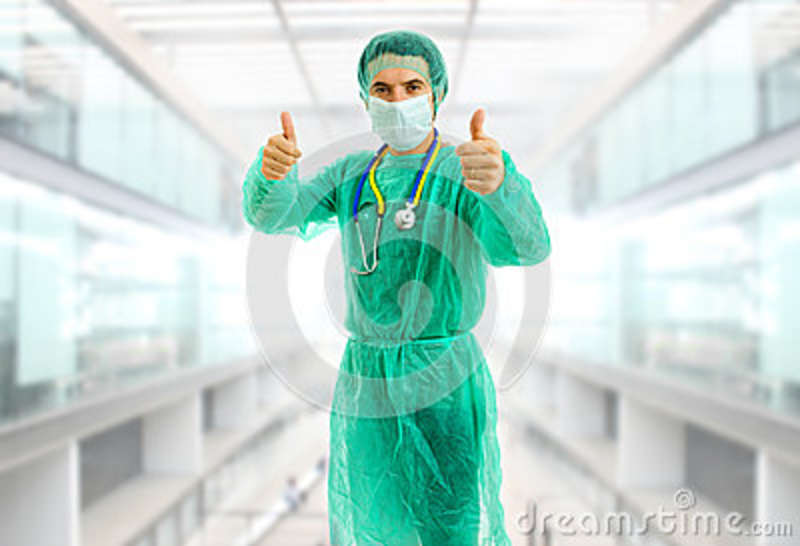mask: (368, 94, 436, 151)
